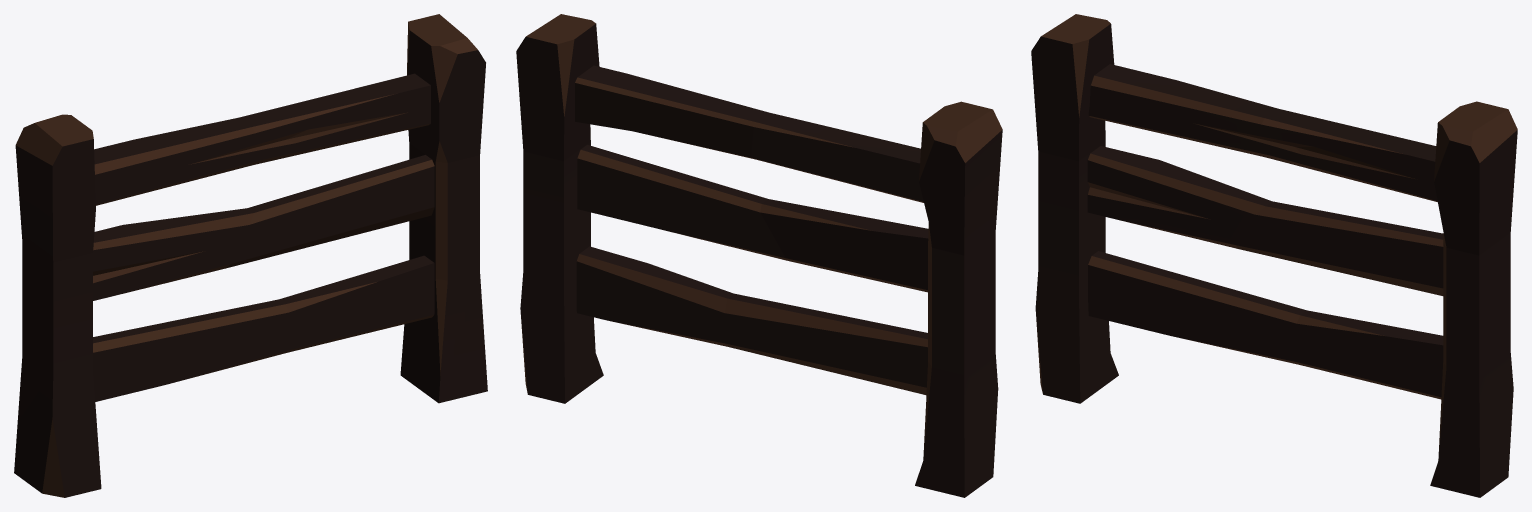
File: Fence_5_2.fbx
3 views of the same model, side by side, from view 1: azimuth 30°, elevation 25°; view 2: azimuth 150°, elevation 25°; view 3: azimuth 330°, elevation 25° (orthographic).
Visible parts, largest first — view 1: Fence_5_2; view 2: Fence_5_2; view 3: Fence_5_2.
Boxes of the visible parts, x1,y1,x2,y2 form: Fence_5_2: [14, 14, 487, 497]; Fence_5_2: [516, 14, 1002, 497]; Fence_5_2: [1031, 14, 1517, 497].
Bounding box in the file's own units: 53.2 × 40.75 × 8.75.
